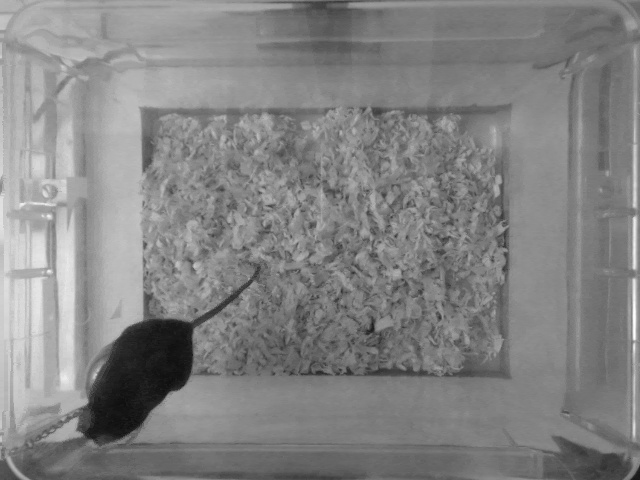mice: (73, 262, 261, 449)
